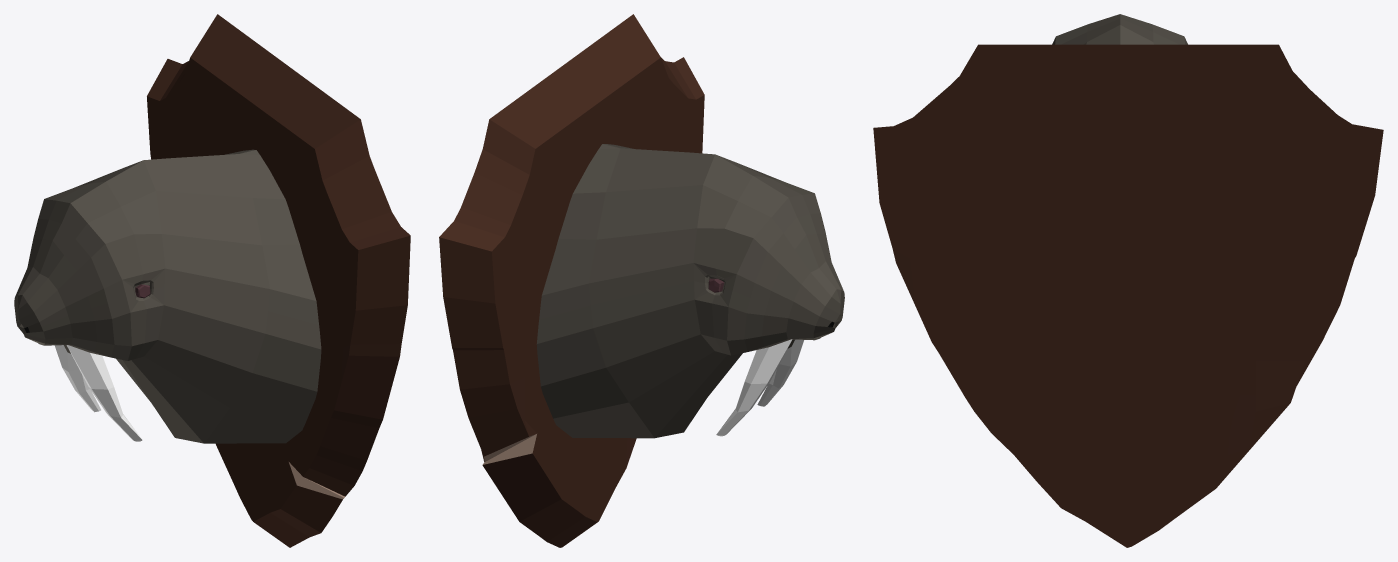
The model's file is walrus totem.fbx.
3 views of the same model, side by side, from view 1: azimuth 30°, elevation 25°; view 2: azimuth 150°, elevation 25°; view 3: azimuth 270°, elevation 25° (orthographic). The views are drawn at different scales.
Visible parts, largest first — view 1: Cylinder, Cube; view 2: Cylinder, Cube; view 3: Cube, Cylinder.
Part boxes in pixels (x1,y1,x2,y2): Cylinder: (14, 149, 321, 443); Cube: (147, 14, 410, 547); Cylinder: (536, 144, 844, 438); Cube: (439, 14, 704, 547); Cube: (873, 44, 1383, 547); Cylinder: (1052, 14, 1187, 44).
Bounding box in the file's own units: 266 × 443 × 407.
